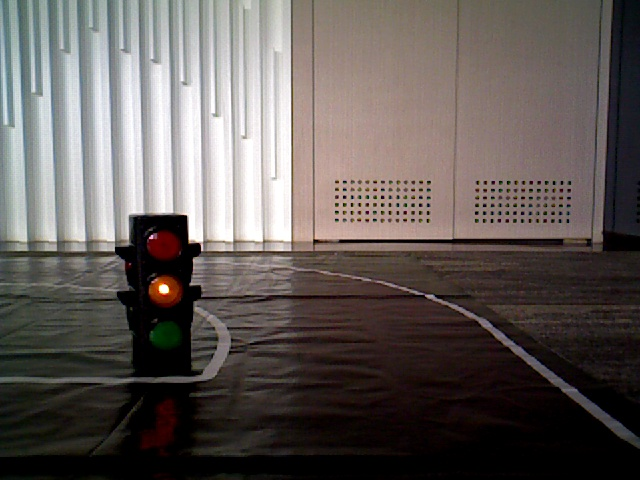yellow: (137, 219, 192, 373)
